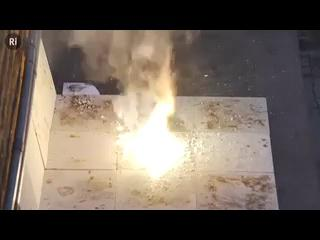Fire: (117, 55, 192, 180)
